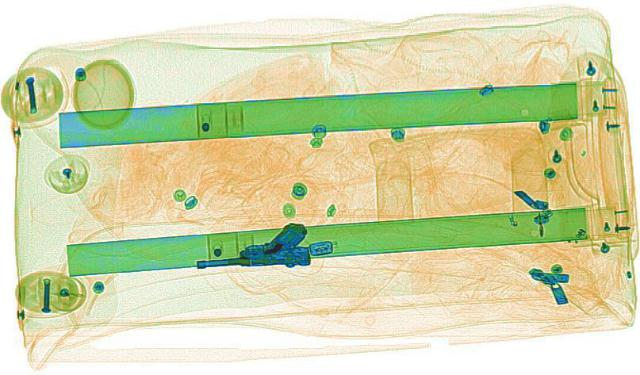Gun: (185, 220, 317, 271)
